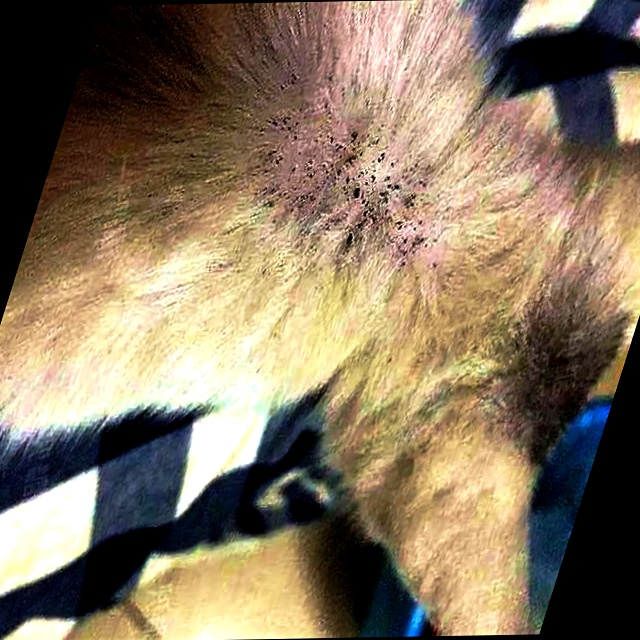acne: (207, 103, 480, 282)
